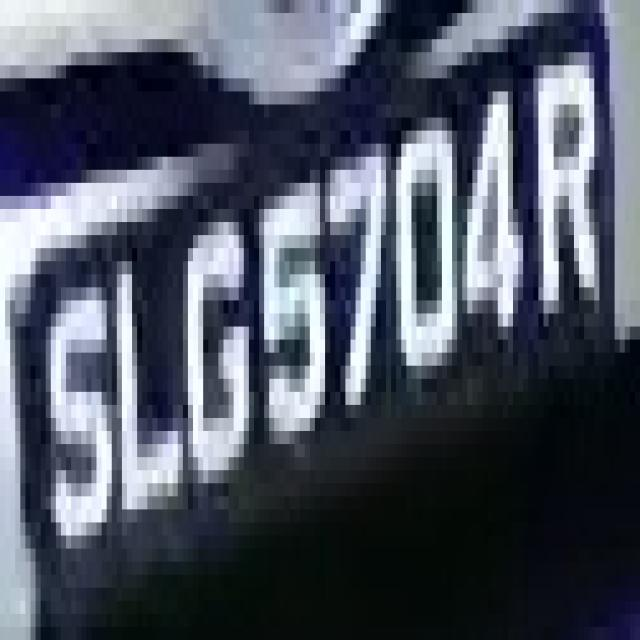0: (386, 91, 462, 392)
4: (447, 78, 523, 379)
5: (249, 144, 320, 470)
7: (305, 118, 391, 457)
G: (173, 170, 254, 535)
L: (97, 183, 193, 522)
R: (513, 39, 615, 327)
S: (41, 261, 122, 588)
